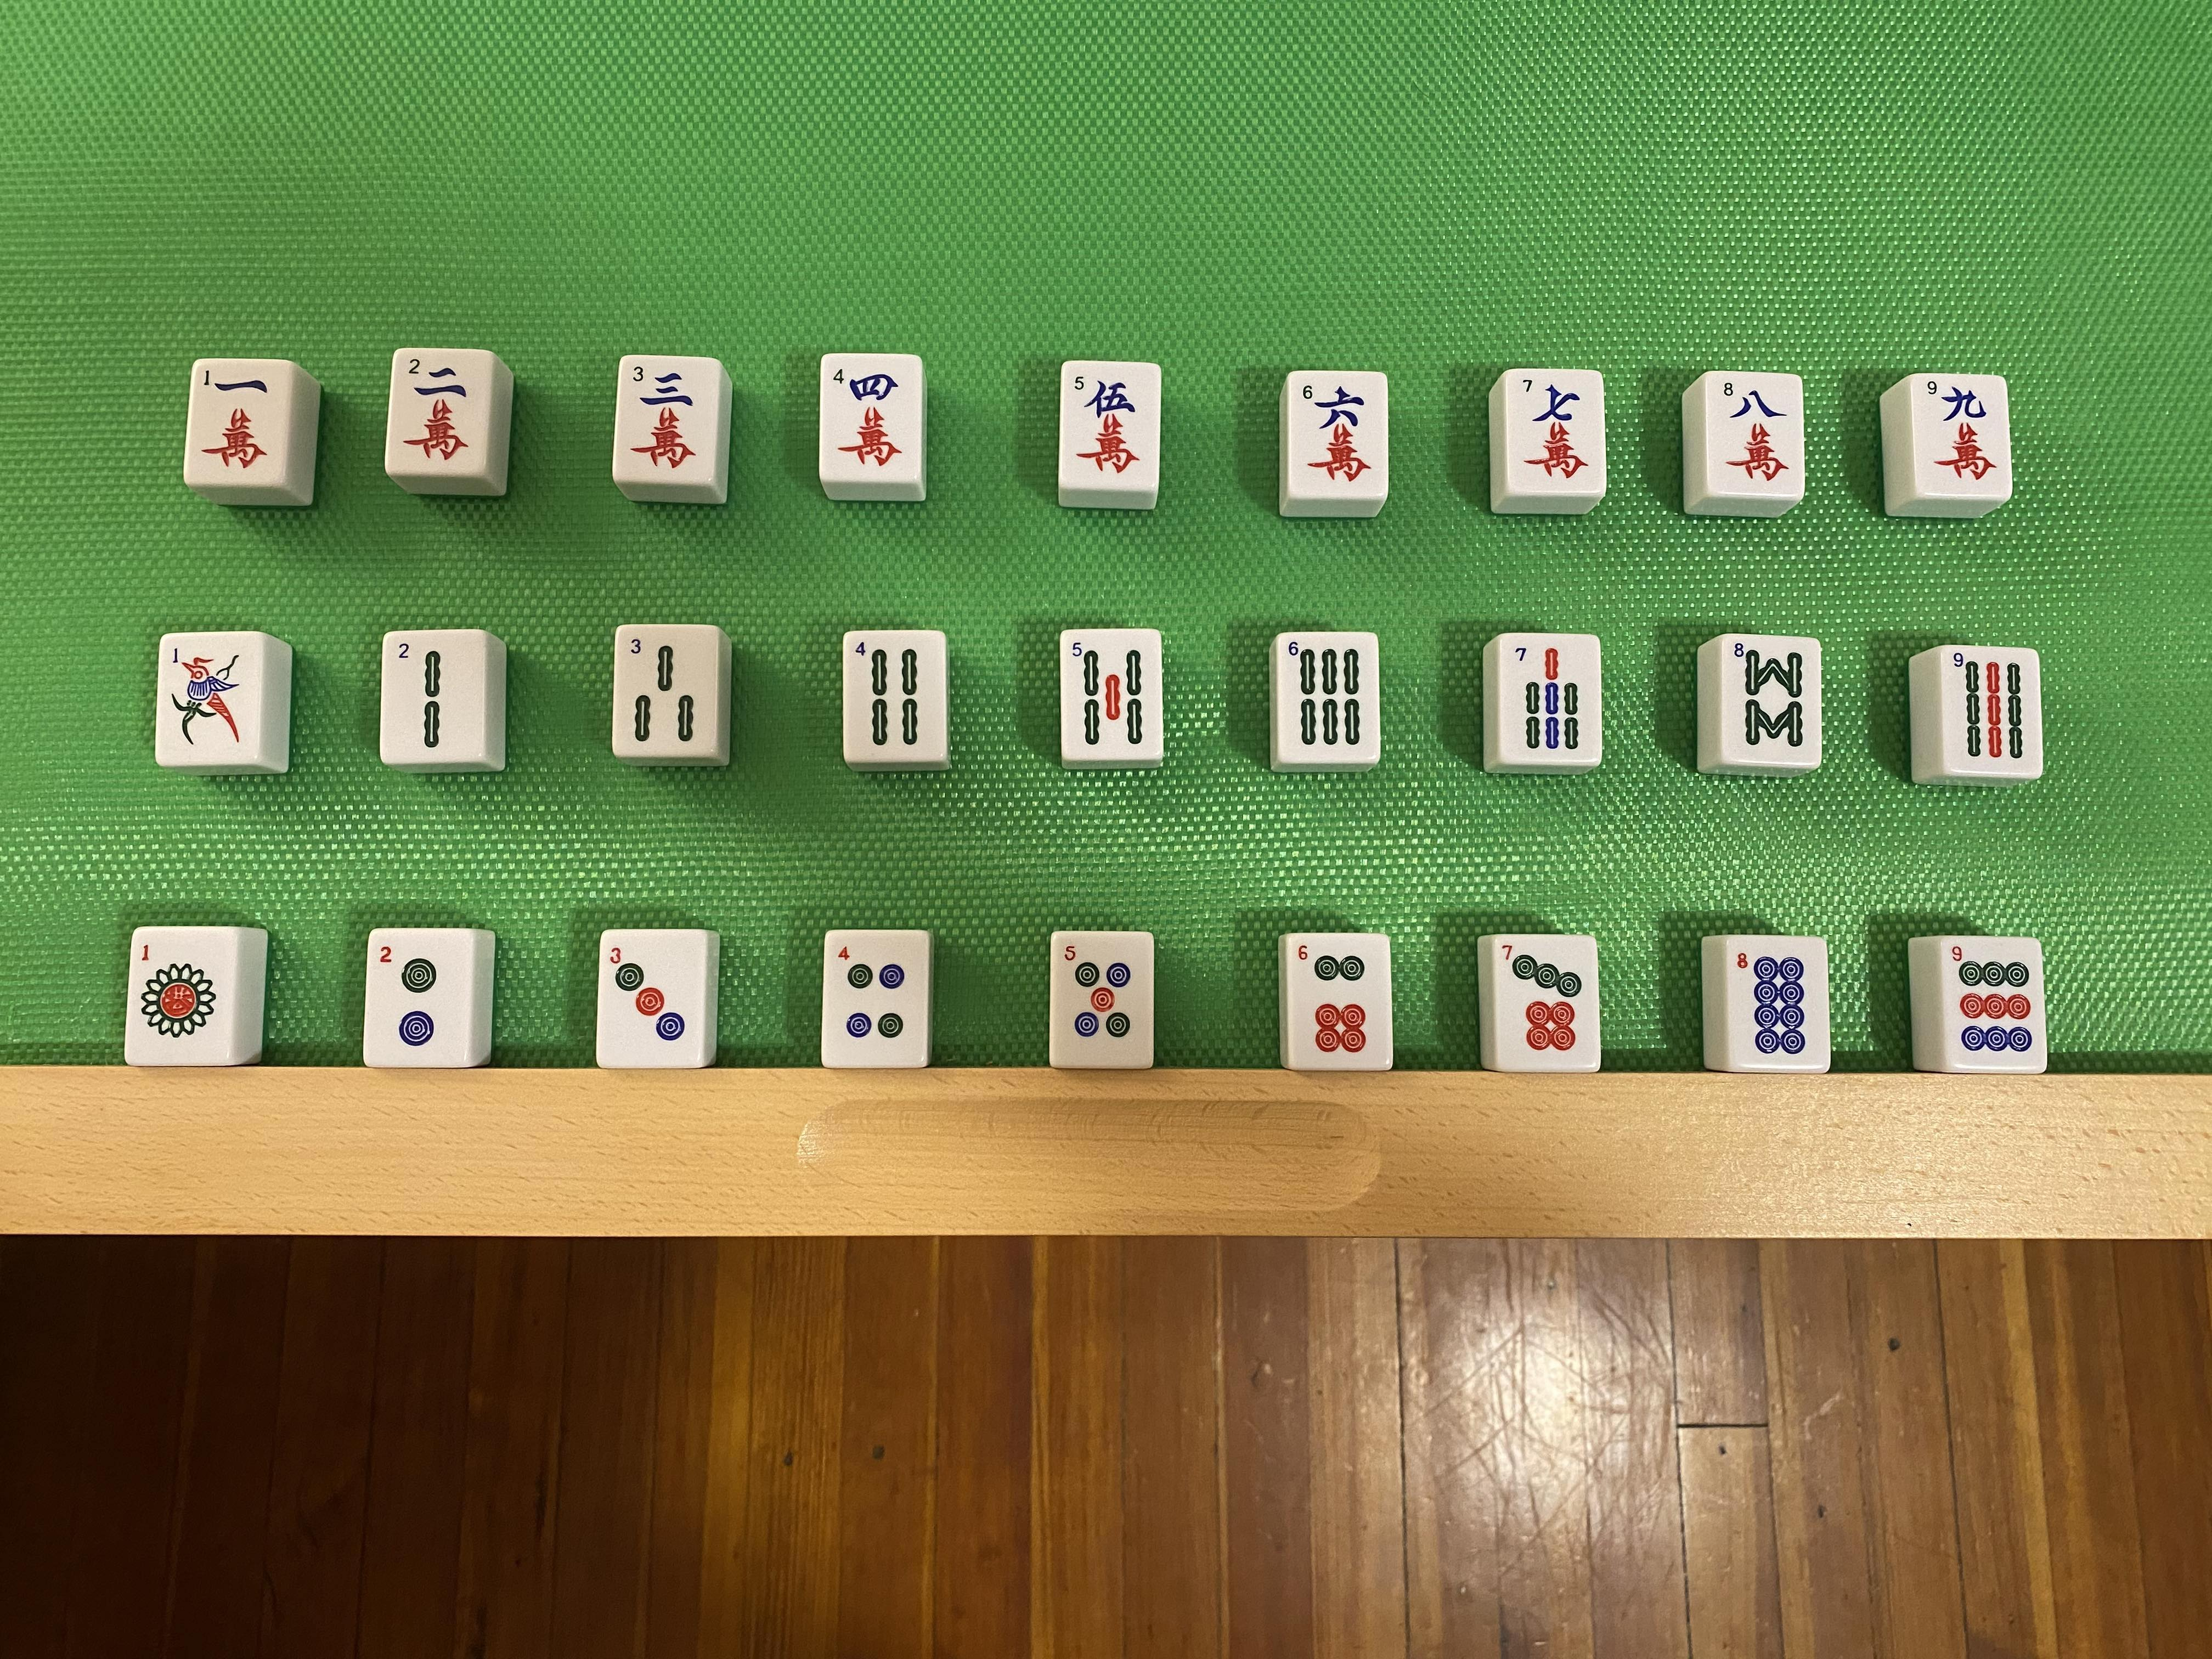bamboo-eight: (1723, 638, 1817, 762)
bamboo-five: (1061, 633, 1162, 756)
bamboo-four: (845, 634, 948, 758)
bamboo-nine: (1942, 648, 2038, 772)
bamboo-one: (160, 634, 256, 763)
bamboo-seven: (1500, 638, 1599, 762)
bamboo-six: (1280, 636, 1376, 760)
bamboo-three: (613, 622, 719, 753)
bamboo-two: (383, 634, 482, 758)
character-eight: (1707, 373, 1801, 495)
character-five: (1059, 361, 1157, 488)
character-four: (822, 356, 918, 477)
character-nine: (1911, 375, 2010, 498)
character-one: (192, 356, 282, 483)
character-seven: (1508, 371, 1602, 495)
character-six: (1291, 373, 1385, 497)
character-three: (618, 356, 711, 481)
character-two: (392, 349, 482, 471)
circle-eight: (1731, 939, 1820, 1070)
circle-five: (1054, 936, 1150, 1063)
circle-four: (827, 936, 923, 1065)
circle-nine: (1942, 943, 2045, 1070)
circle-one: (134, 931, 225, 1061)
circle-seven: (1496, 939, 1595, 1068)
circle-six: (1285, 938, 1390, 1070)
circle-three: (603, 936, 697, 1066)
circle-two: (369, 932, 462, 1063)
